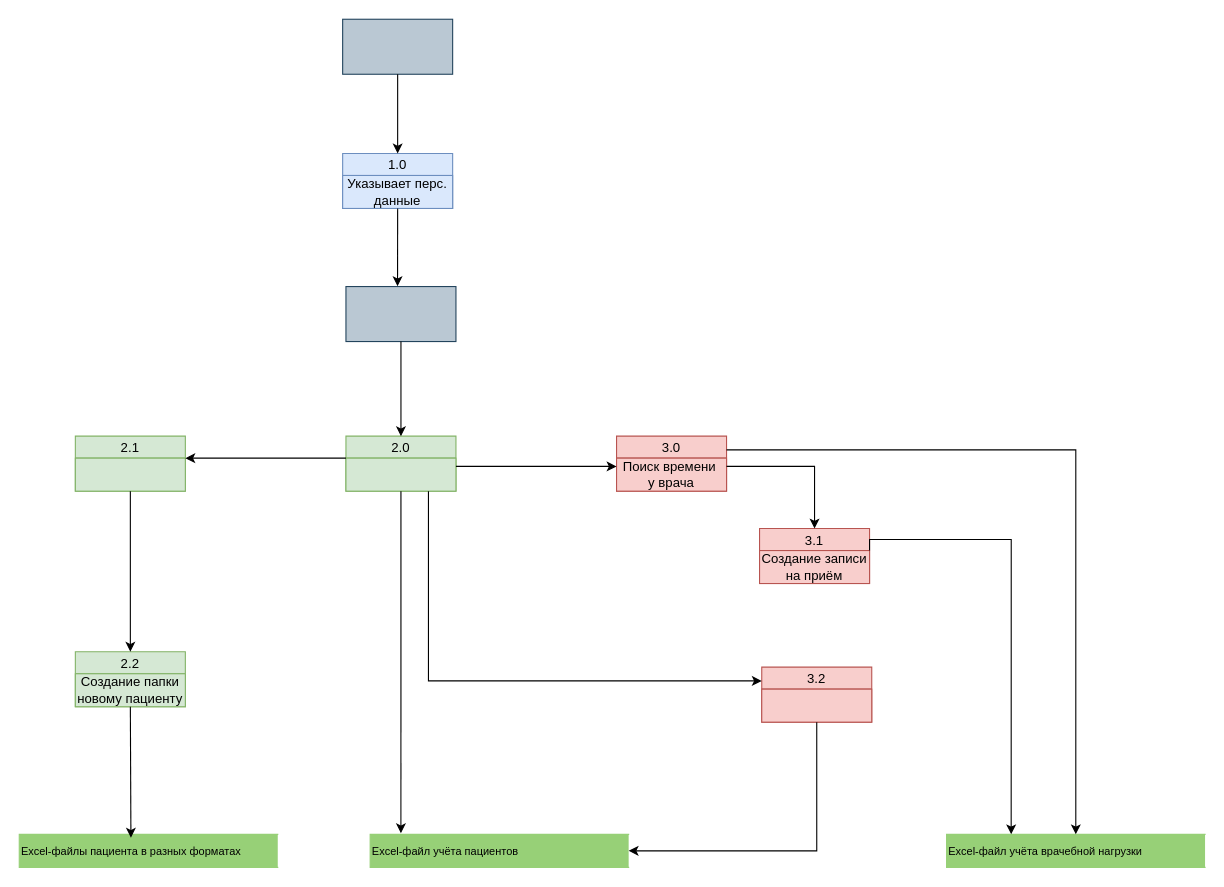
Some shapes in this 1224 by 887 pixel diagram are drawn without their labels. The centre of each missing label's shape, as x and y in pixels:
"Администратор" goes at point (400, 313).
"Пациент" goes at point (397, 46).
"Поиск пациента в файле" goes at point (400, 474).
"Создание нового пациента" goes at point (129, 474).
"Создание новой записи клиенту" goes at point (816, 705).
